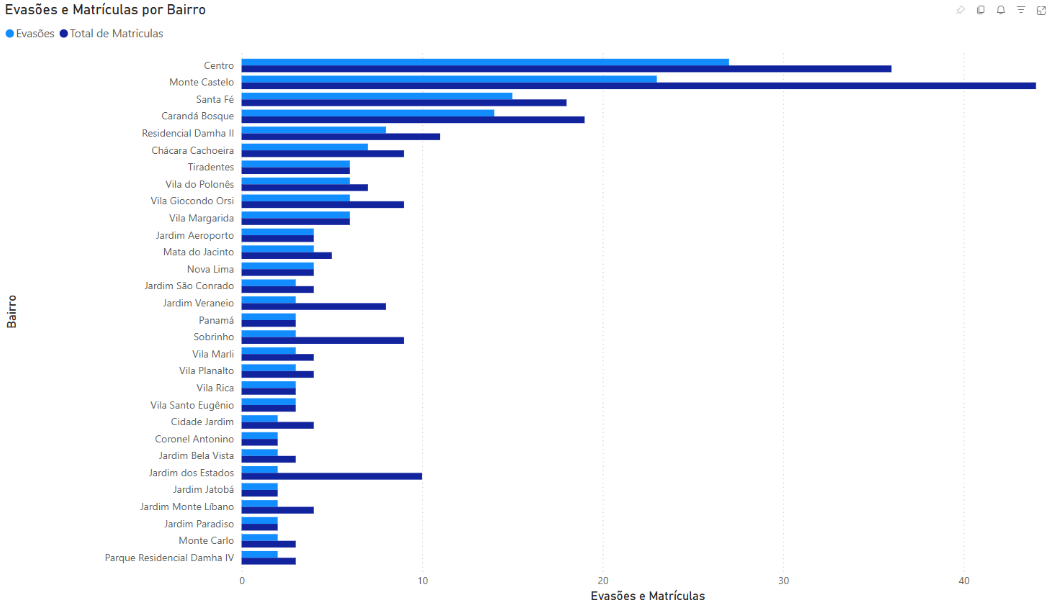

The dashboard page shown, as its layout file describes it:
{"tool":"powerbi","page":{"name":"Página 7","canvas":[1280,720],"ordinal":9},"visuals":[{"type":"barChart","title":"Evasões por Bairro","fields":{"Category":["Dimensão Aluno.Bairro"],"Y":["Fato Matrícula.Evasões"],"Series":["Dimensão Aluno.Bairro"]},"box":[11.1,0,1254.1,720.3],"z":0}]}

Visuals, with their boxes in screenshot pixels (x1, y1, x2, y2), scaled from the page's 1280x720 canvas onto the 1049x608 screenshot:
"Evasões por Bairro" barChart: detection(9, 0, 1037, 607)
